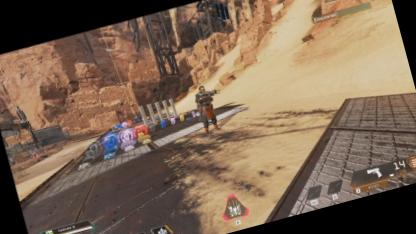Target: (192, 82, 222, 135)
